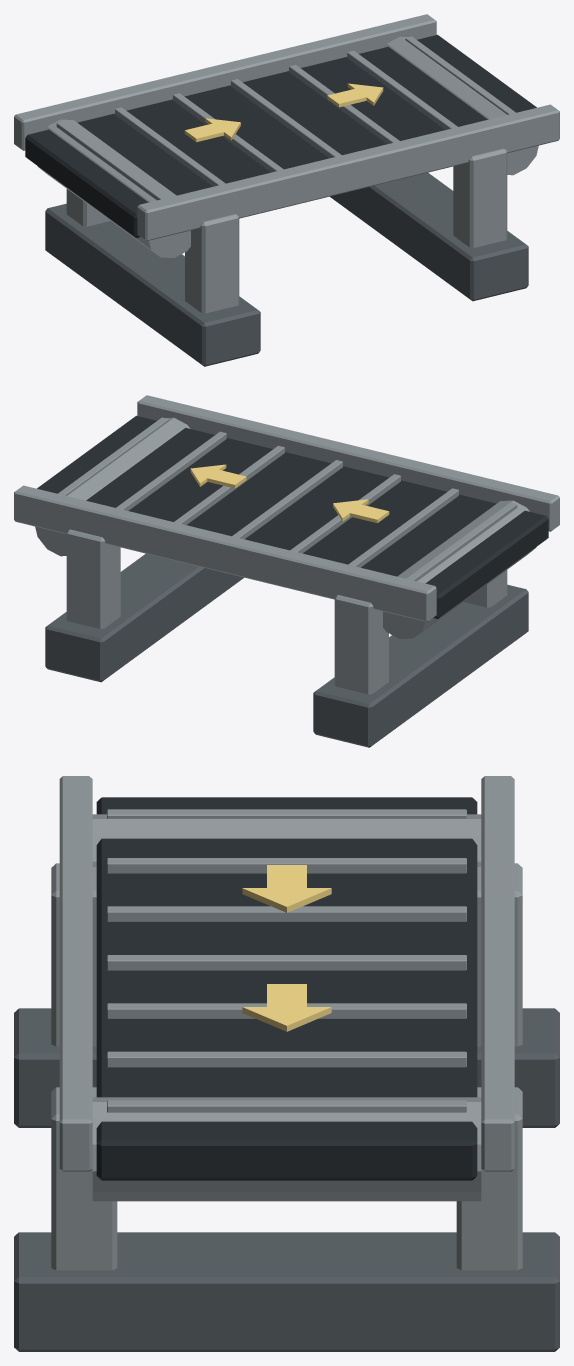
The model's file is belt-mk1.glb.
3 renders of one model, top to bottom at view 1: azimuth 30°, elevation 25°; view 2: azimuth 150°, elevation 25°; view 3: azimuth 270°, elevation 25°, orthographic. The views are drawn at different scales.
Visible parts, largest first — view 1: belt-mk1 / Machined steel, belt-mk1 / Recesses and belt, belt-mk1 / Graphite enamel, belt-mk1 / Gold outlet markings; view 2: belt-mk1 / Machined steel, belt-mk1 / Recesses and belt, belt-mk1 / Graphite enamel, belt-mk1 / Gold outlet markings; view 3: belt-mk1 / Machined steel, belt-mk1 / Recesses and belt, belt-mk1 / Graphite enamel, belt-mk1 / Gold outlet markings.
Boxes of the visible parts, x1,y1,x2,y2 form: belt-mk1 / Machined steel: (14,14,559,313); belt-mk1 / Recesses and belt: (25,34,536,237); belt-mk1 / Graphite enamel: (45,172,528,366); belt-mk1 / Gold outlet markings: (184,83,383,142); belt-mk1 / Machined steel: (14,395,559,694); belt-mk1 / Recesses and belt: (37,415,548,618); belt-mk1 / Graphite enamel: (45,553,528,747); belt-mk1 / Gold outlet markings: (190,464,389,523); belt-mk1 / Machined steel: (51,776,522,1270); belt-mk1 / Recesses and belt: (96,797,477,1180); belt-mk1 / Graphite enamel: (14,1008,559,1351); belt-mk1 / Gold outlet markings: (242,865,331,1031).
Bounding box in the file's own units: 0.99 × 0.363 × 0.66.
